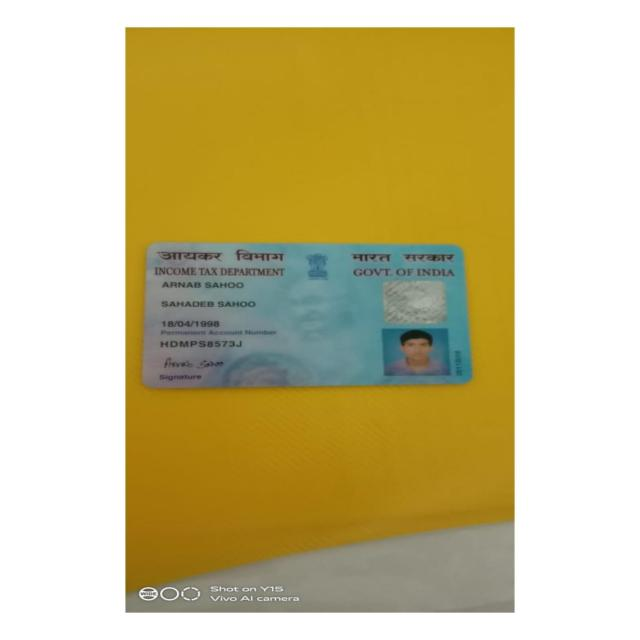pan_card: (148, 244, 468, 385)
